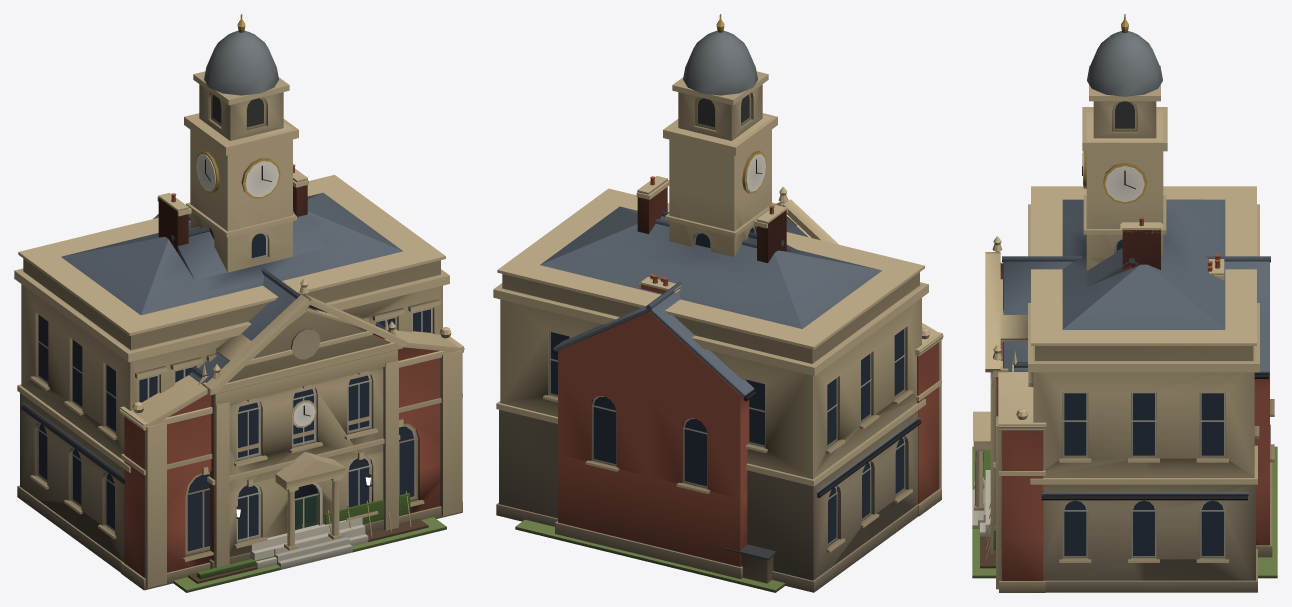
The model's file is town-c01b9eeb.glb.
The picture shows the model from 3 angles, left to right: view 1: azimuth 30°, elevation 25°; view 2: azimuth 150°, elevation 25°; view 3: azimuth 270°, elevation 25°; orthographic projection.
Visible parts, largest first — view 1: town_hall-mesh, chapel-mesh, market_hall-mesh, terrace_tall-mesh, allotment-mesh; view 2: town_hall-mesh, chapel-mesh, market_hall-mesh, terrace_tall-mesh, allotment-mesh; view 3: town_hall-mesh, chapel-mesh, market_hall-mesh, terrace_tall-mesh, allotment-mesh.
Part boxes in pixels (x1,y1,x2,y2): town_hall-mesh: (14, 14, 449, 572); chapel-mesh: (153, 214, 407, 569); market_hall-mesh: (21, 327, 464, 590); terrace_tall-mesh: (157, 164, 324, 280); allotment-mesh: (173, 491, 446, 592); town_hall-mesh: (493, 14, 928, 592); chapel-mesh: (552, 186, 839, 578); market_hall-mesh: (816, 323, 943, 516); terrace_tall-mesh: (636, 176, 803, 262); allotment-mesh: (515, 519, 785, 592); town_hall-mesh: (980, 14, 1259, 592); chapel-mesh: (972, 236, 1274, 557); market_hall-mesh: (996, 361, 1249, 592); terrace_tall-mesh: (1087, 217, 1163, 286); allotment-mesh: (972, 424, 1277, 578).
Size of the model in its own units: 0.4942 by 0.723 by 0.4.
